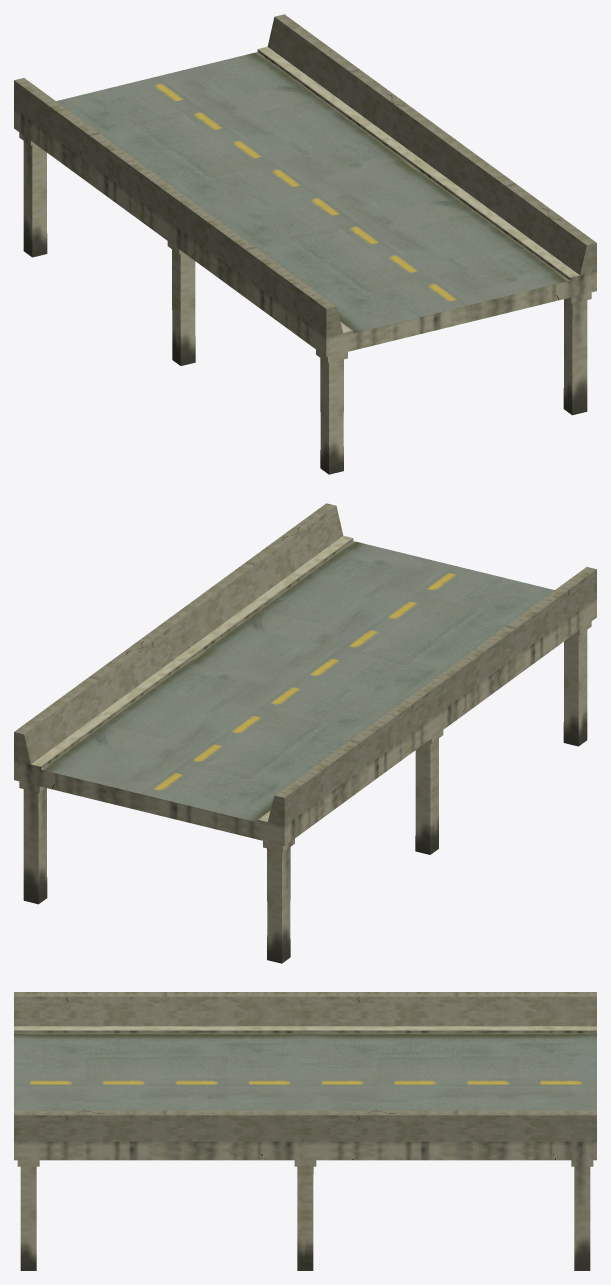
File: bridge-water.glb
3 views of the same model, one above another, from view 1: azimuth 30°, elevation 25°; view 2: azimuth 150°, elevation 25°; view 3: azimuth 270°, elevation 25° (orthographic). The views are drawn at different scales.
Visible parts, largest first — view 1: water-bridge; view 2: water-bridge; view 3: water-bridge.
Boxes of the visible parts, left/top/right/bottom form: water-bridge: left=14, top=14, right=596, bottom=474; water-bridge: left=14, top=503, right=596, bottom=963; water-bridge: left=14, top=992, right=596, bottom=1270.
Bounding box in the file's own units: 1 × 0.6 × 2.
4 materials, 4 textured.
